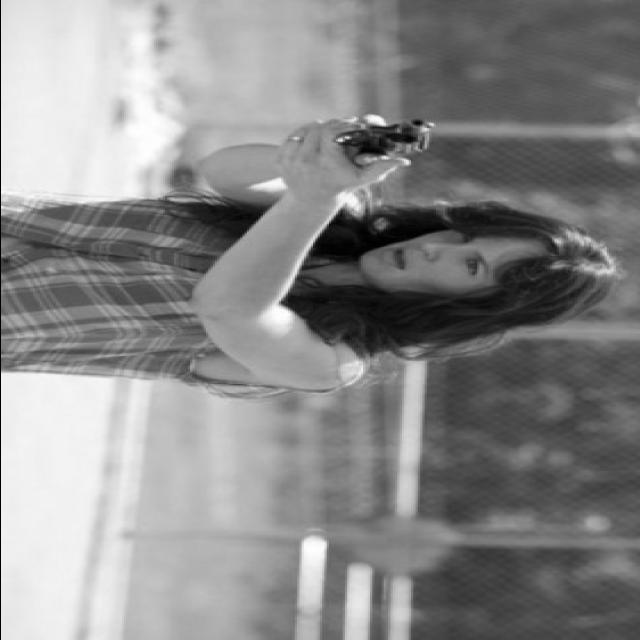weapons: (280, 108, 460, 182)
